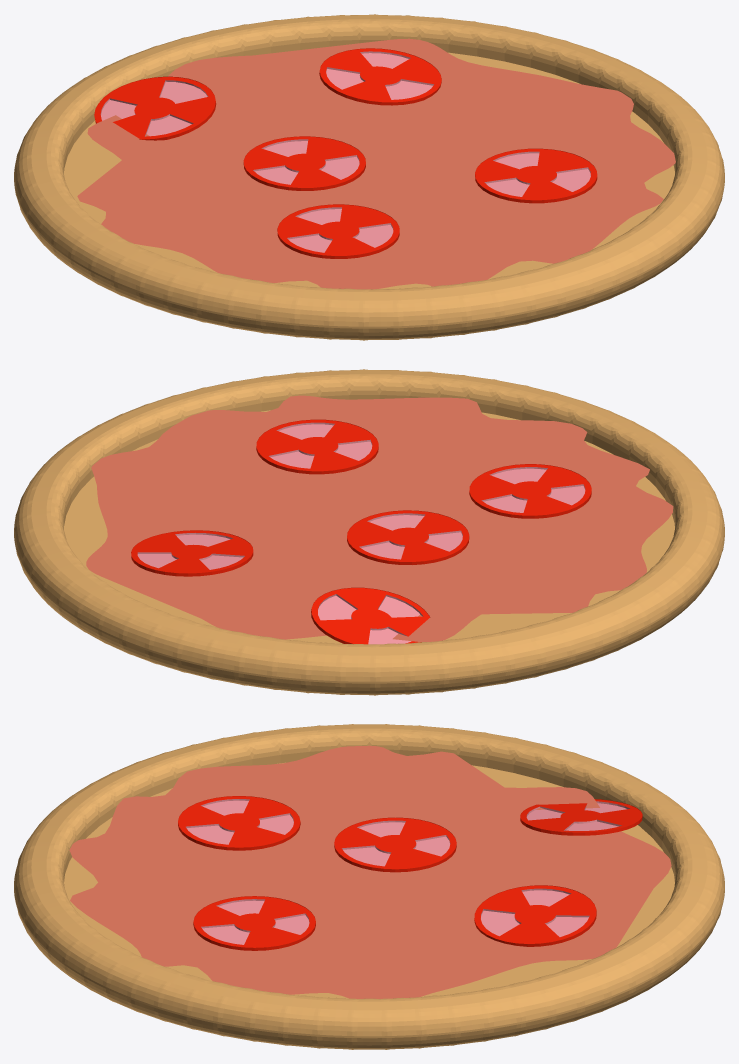
File: pwt.fbx
The picture shows the model from 3 angles, top to bottom: view 1: azimuth 30°, elevation 25°; view 2: azimuth 150°, elevation 25°; view 3: azimuth 270°, elevation 25°; orthographic projection.
Visible parts, largest first — view 1: pwt; view 2: pwt; view 3: pwt.
Part boxes in pixels (x1,y1,x2,y2): pwt: (14,14,724,340); pwt: (14,369,724,695); pwt: (14,724,724,1049).
Bounding box in the file's own units: 232 × 19.76 × 232.
